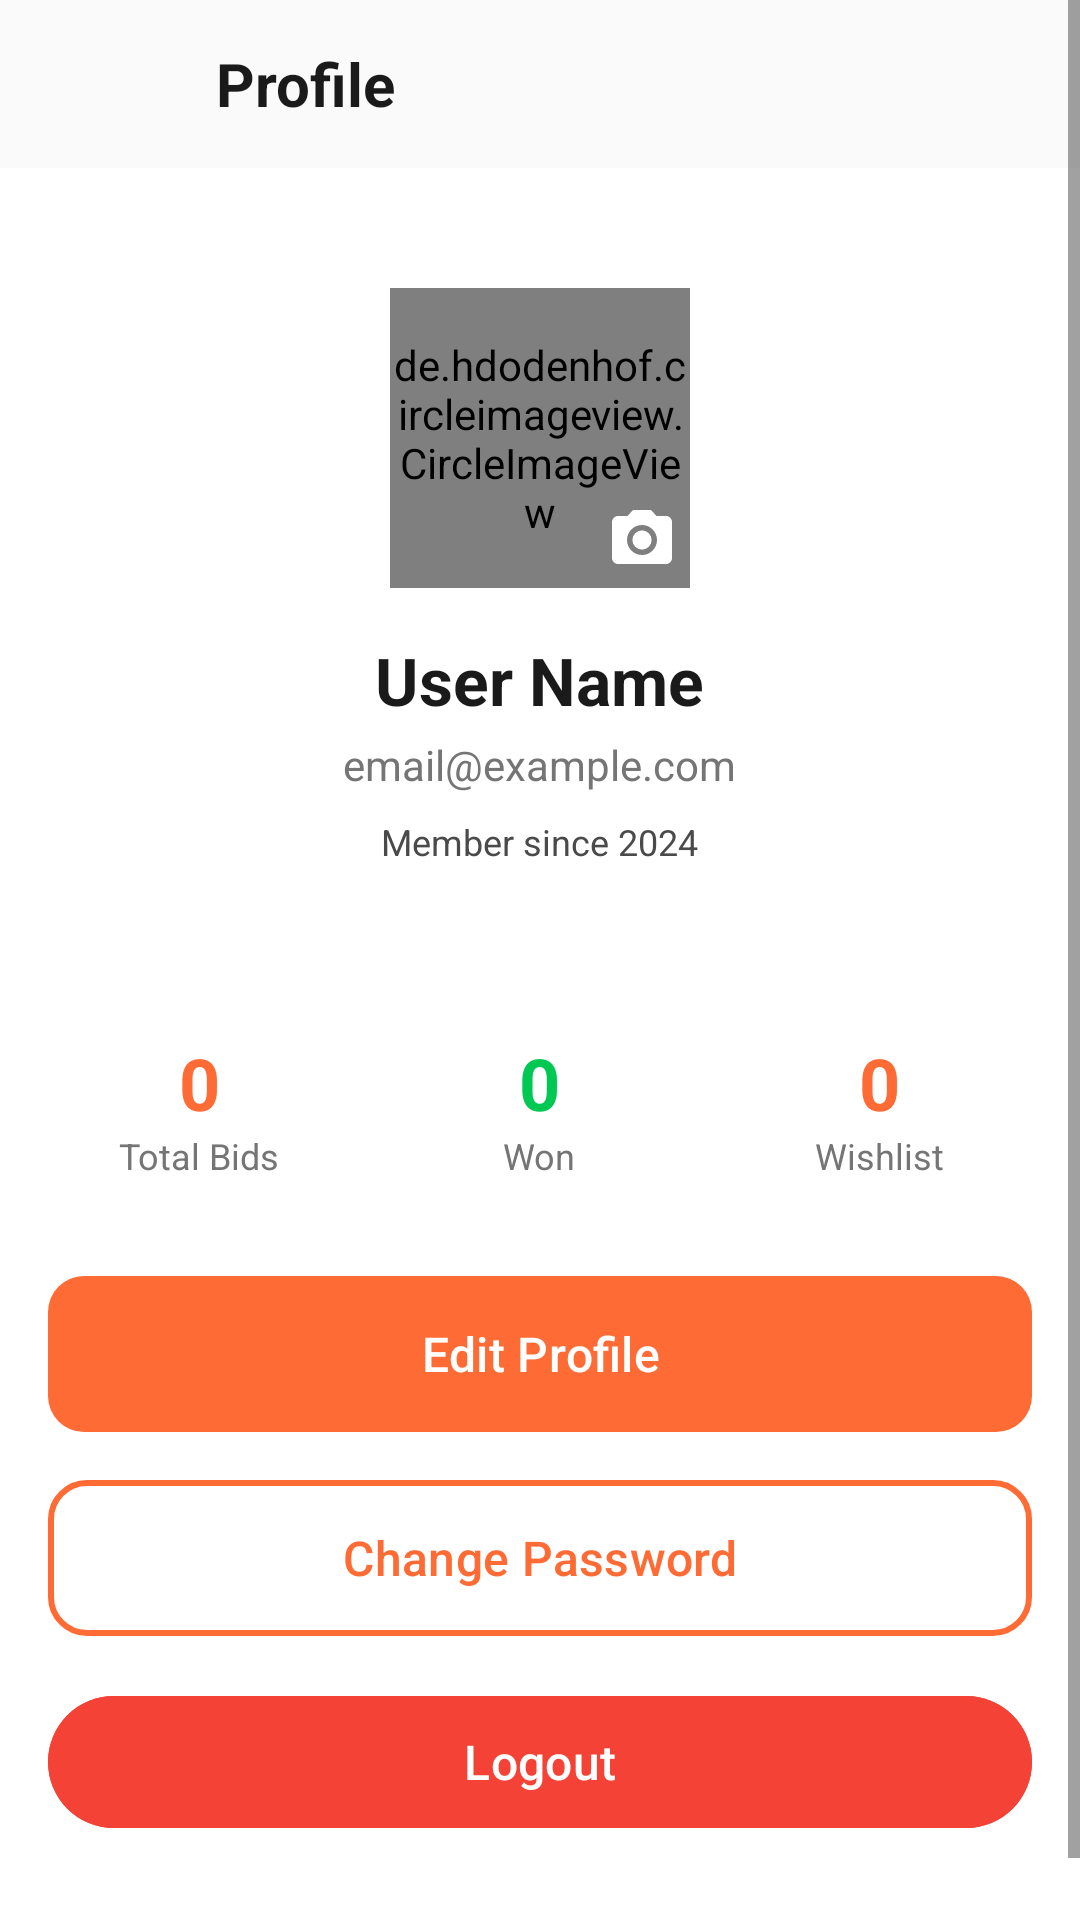

Point at icon controls on the screen. Image size 1080w x 1920h, points as [x,y].
camera: [642,537]
